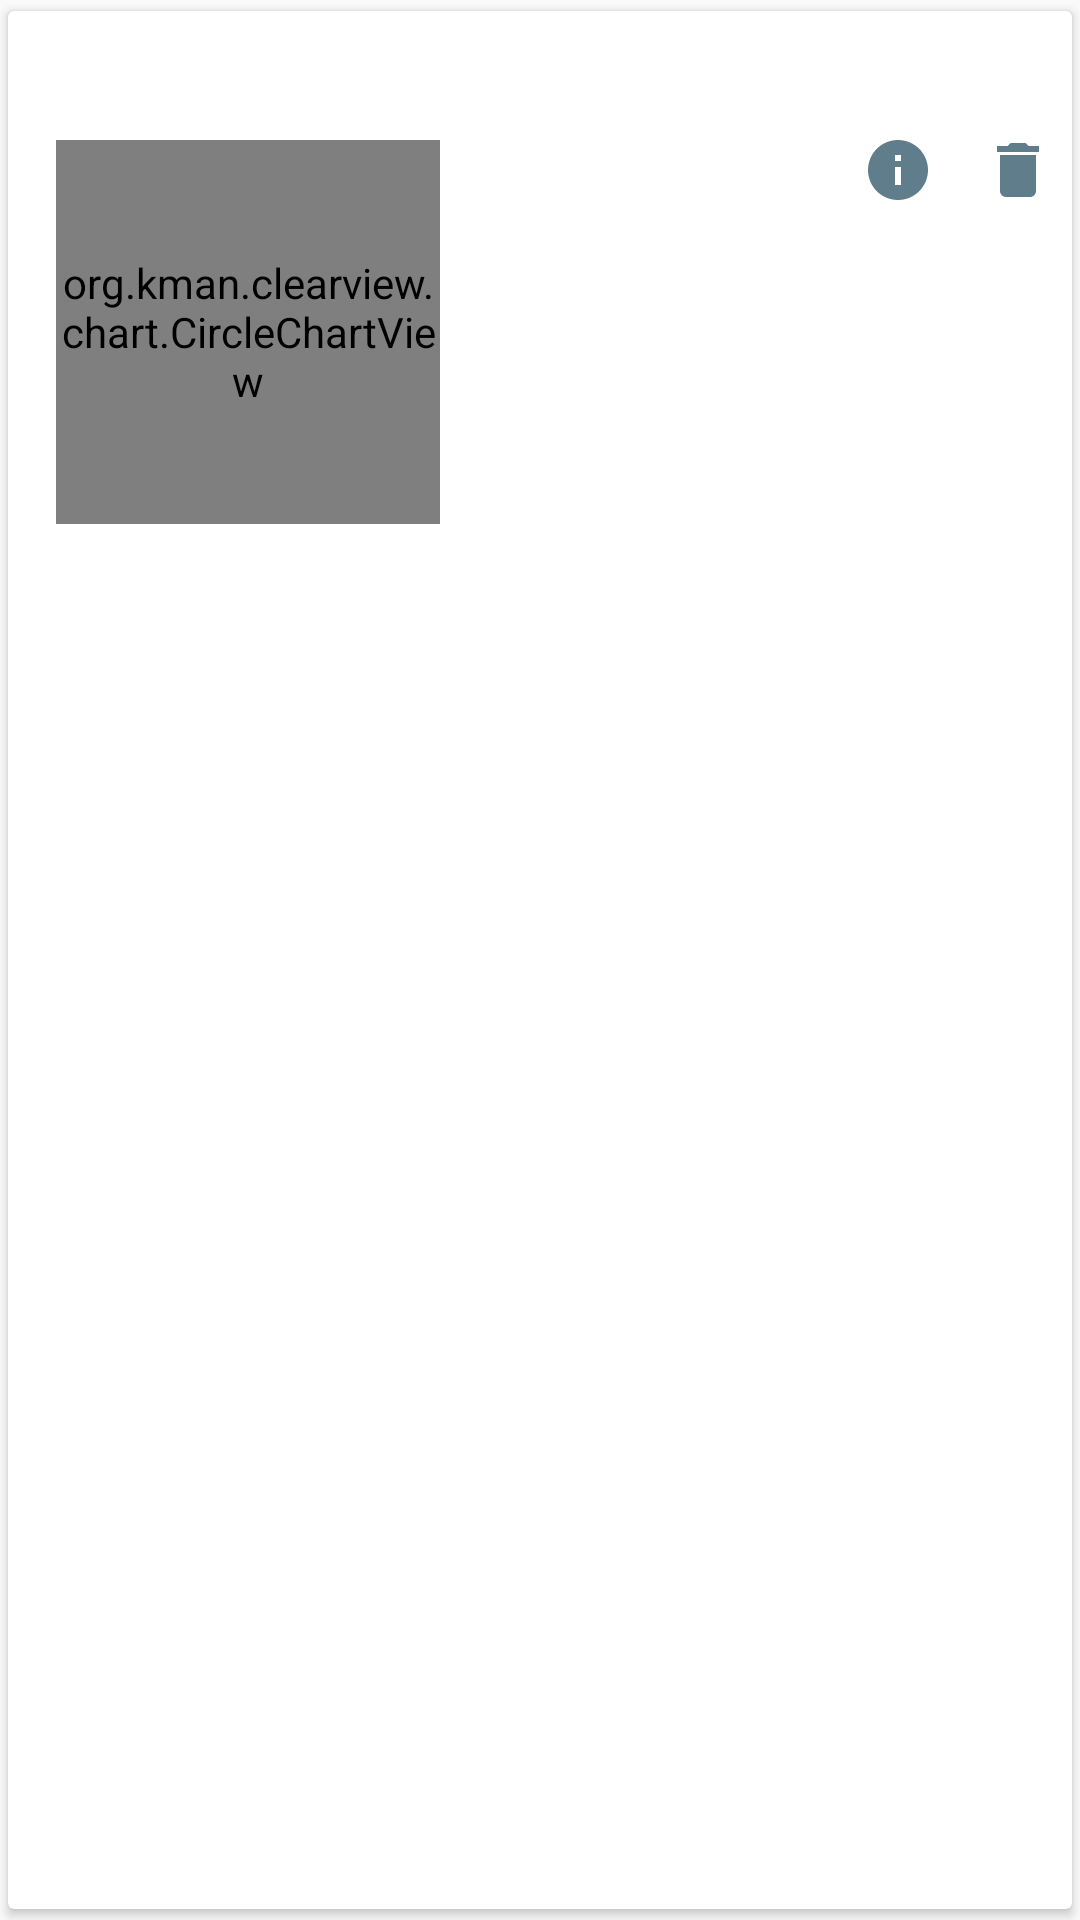

Icons on this 1080w x 1920h Android screen, each with its box as [x1,y1,x2,y2]:
content delete: [997,143,1039,197]
content info: [868,140,928,200]
